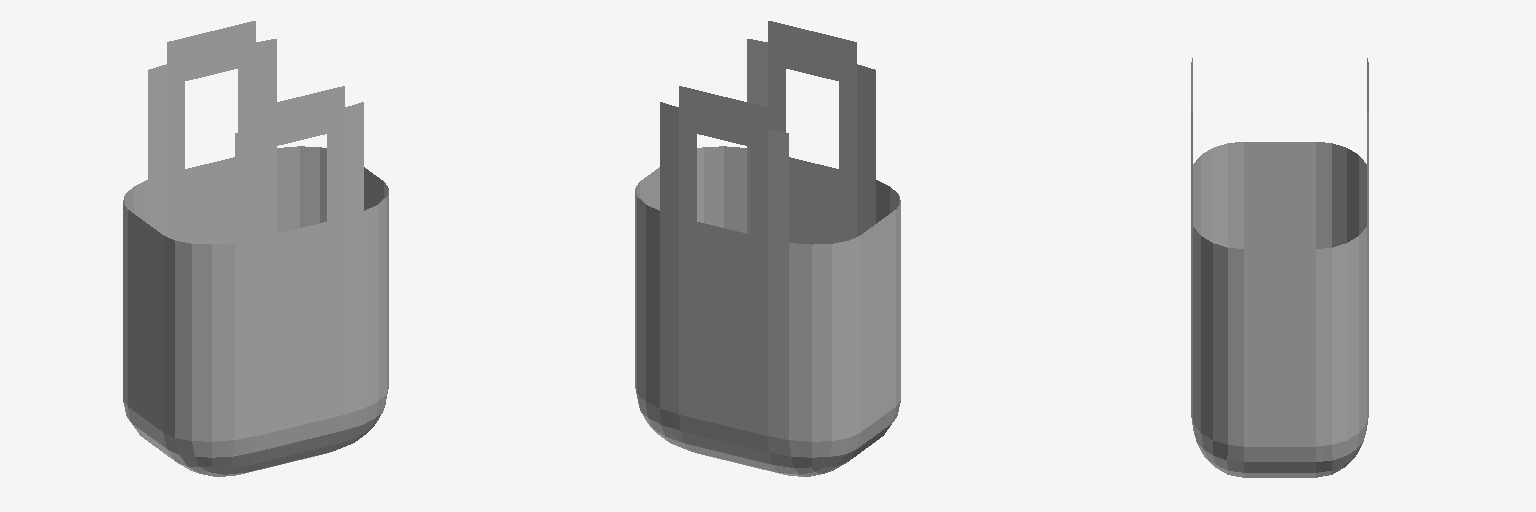
File: bag1_27.obj
3 renders of one model, left to right at view 1: azimuth 30°, elevation 25°; view 2: azimuth 150°, elevation 25°; view 3: azimuth 270°, elevation 25°, orthographic.
Visible parts, largest first — view 1: Cube-0-1.027_Cube.142; view 2: Cube-0-1.027_Cube.142; view 3: Cube-0-1.027_Cube.142.
Part boxes in pixels (bbox=[...]): Cube-0-1.027_Cube.142: bbox=[123, 21, 388, 476]; Cube-0-1.027_Cube.142: bbox=[635, 21, 900, 476]; Cube-0-1.027_Cube.142: bbox=[1191, 58, 1368, 477].
Size of the model in its own units: 2 by 3.33 by 1.4.